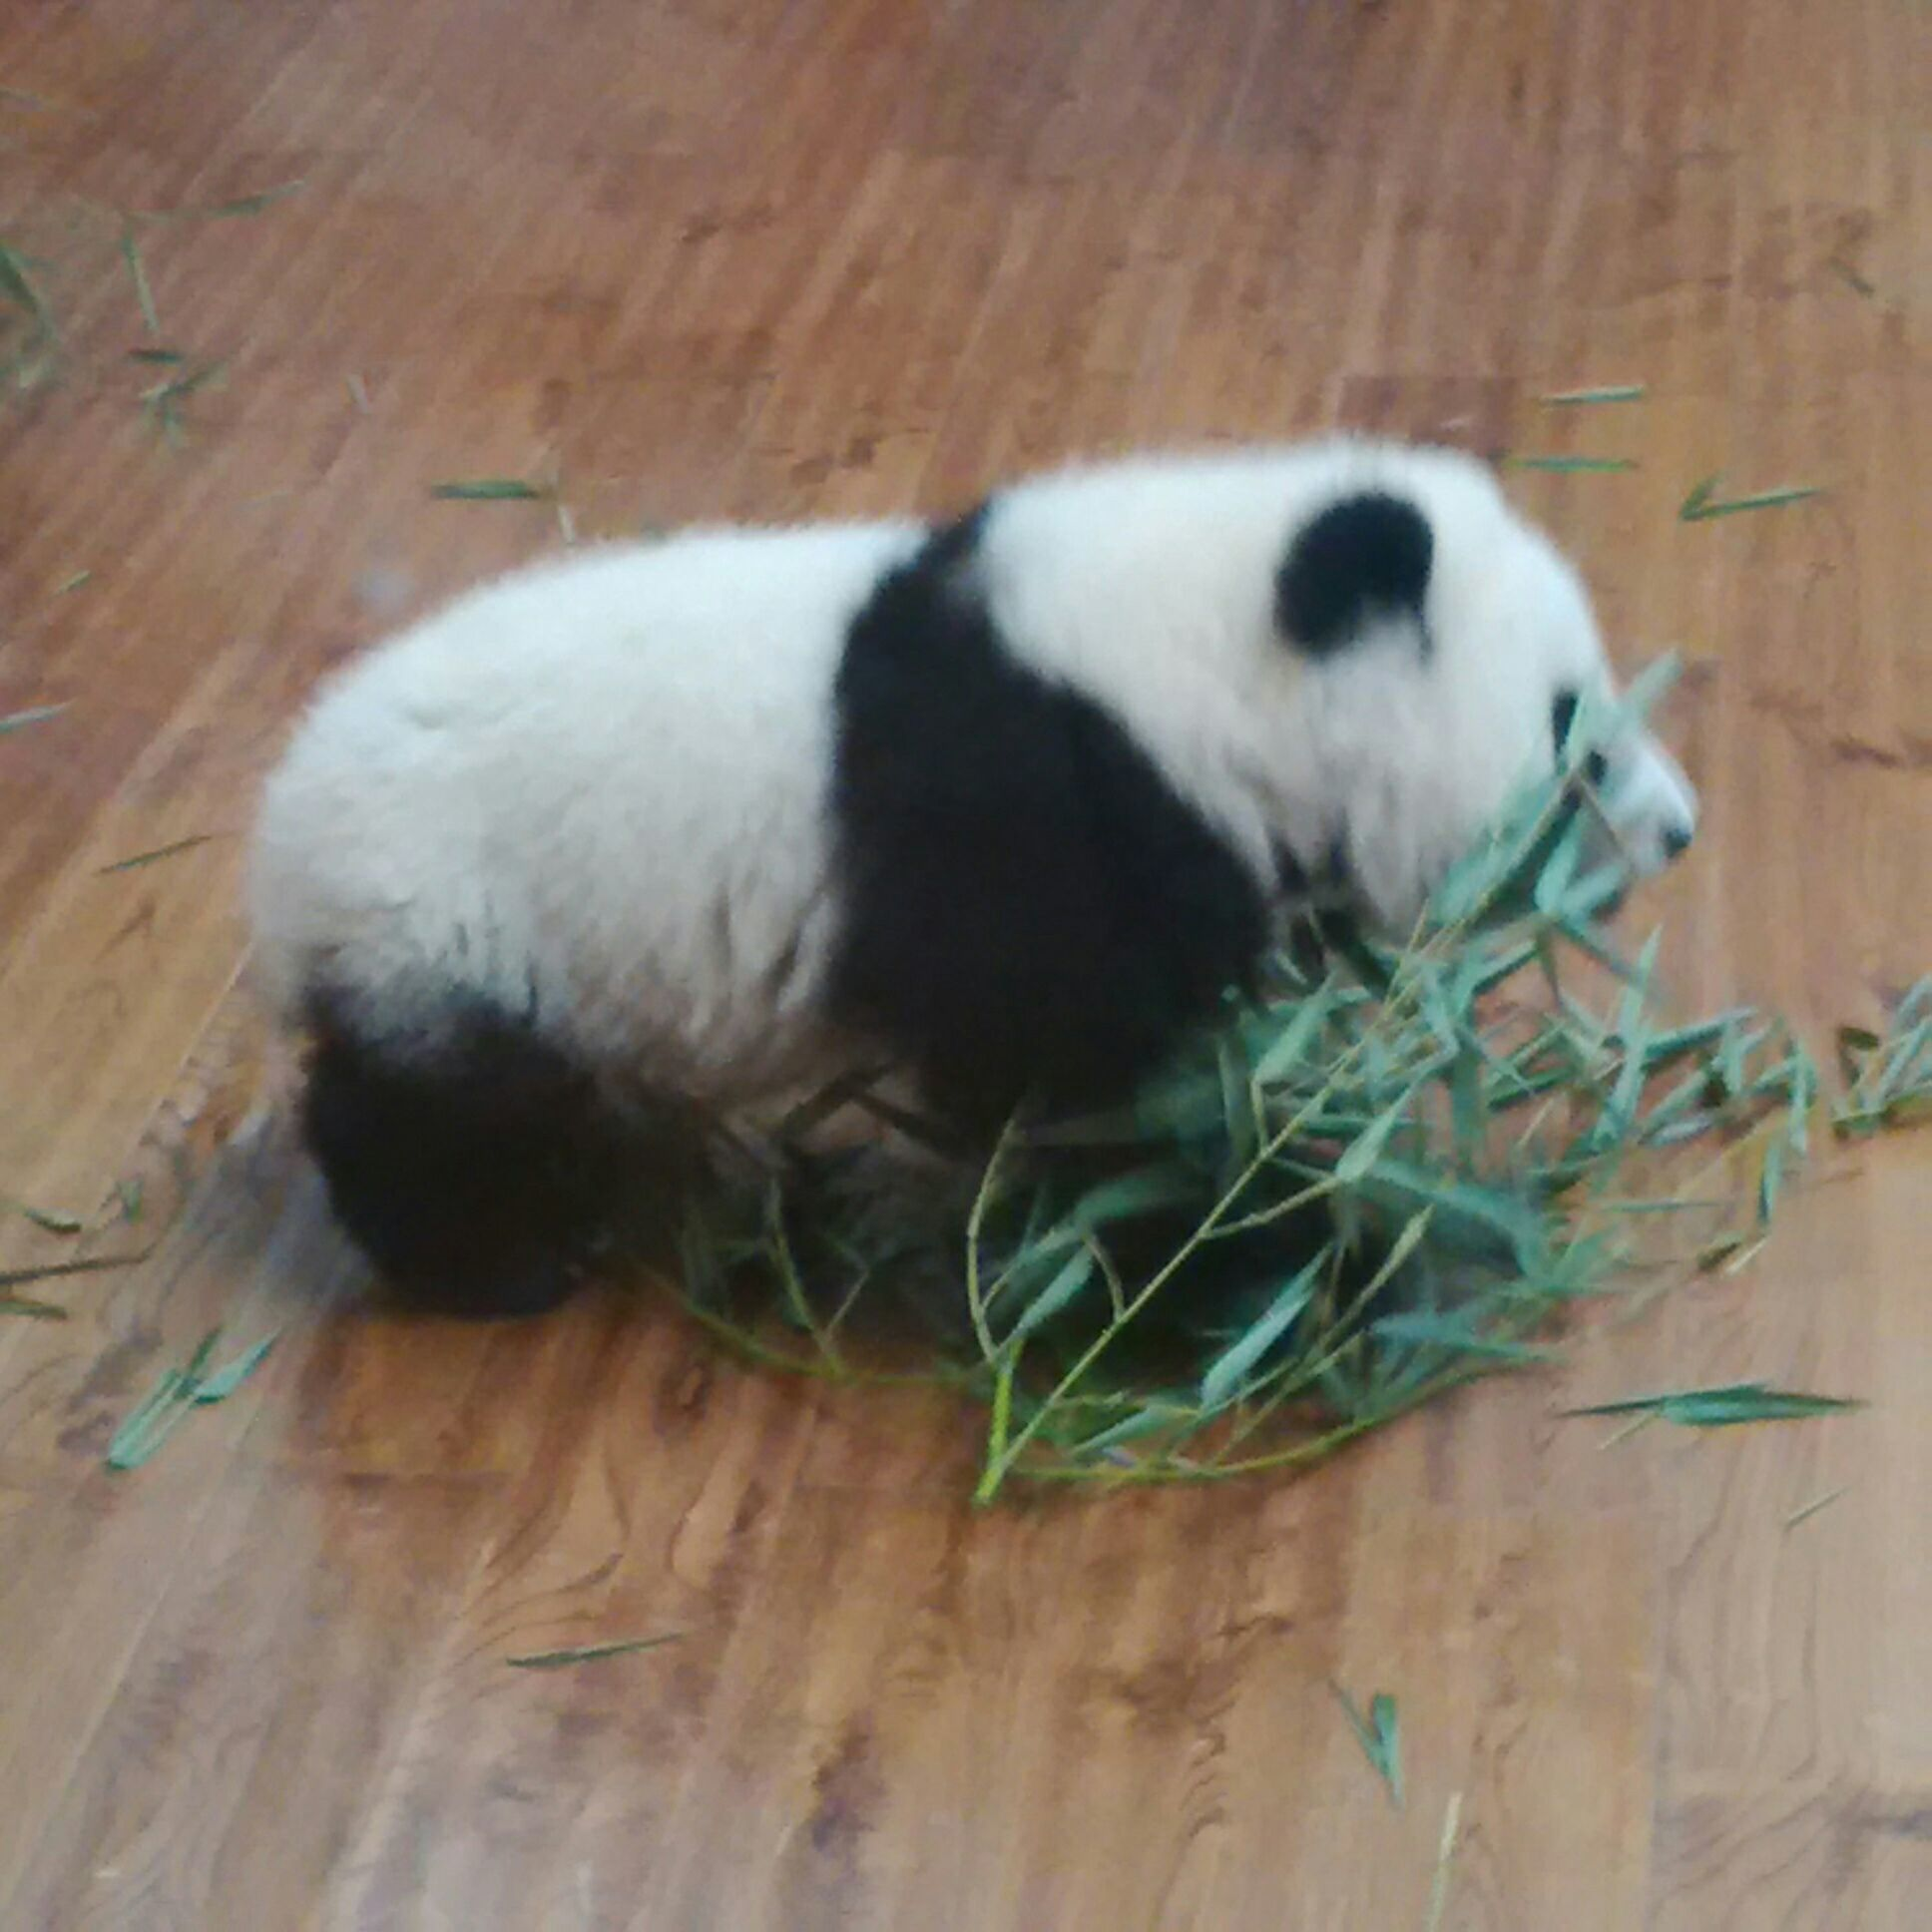panda: (223, 419, 1826, 1444)
